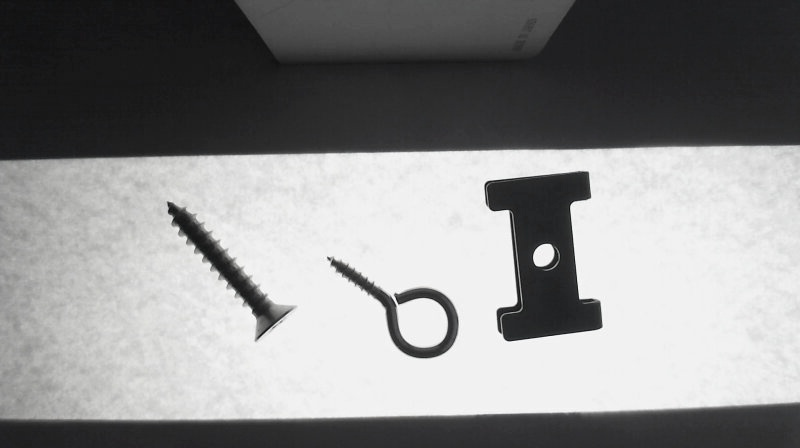O001: (324, 252, 459, 360)
O002: (482, 169, 607, 341)
S001: (164, 200, 295, 342)
